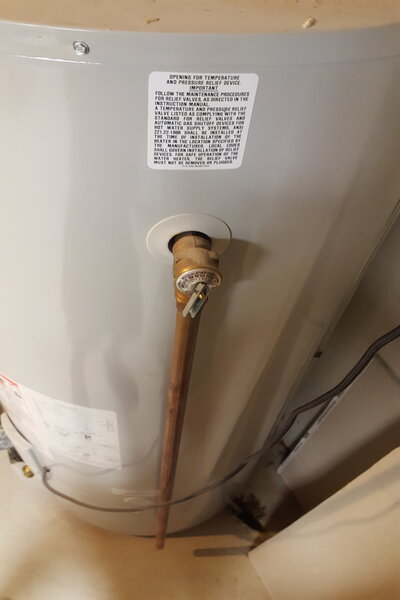valve: (166, 227, 222, 325)
